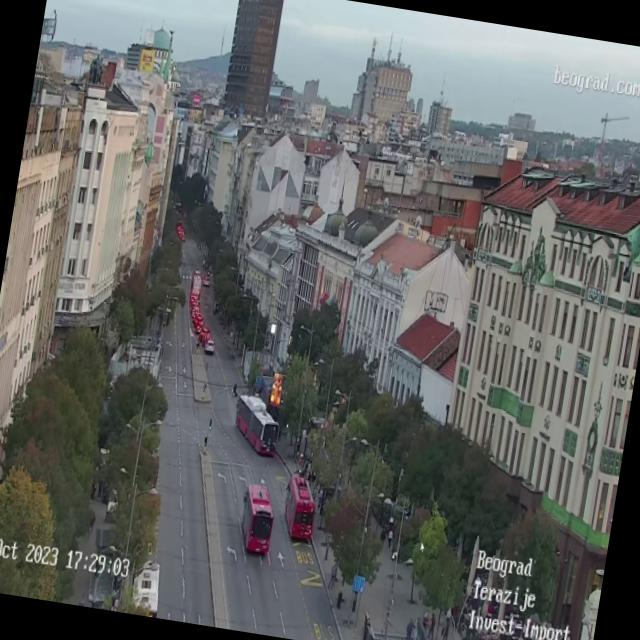bus: (230, 392, 284, 457), (235, 482, 279, 556), (278, 473, 320, 542), (127, 559, 165, 617)
car: (202, 337, 214, 357), (196, 320, 204, 335), (205, 274, 213, 286), (200, 330, 207, 342)
